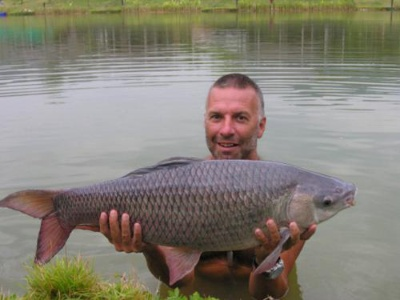rohu: (4, 157, 362, 269)
